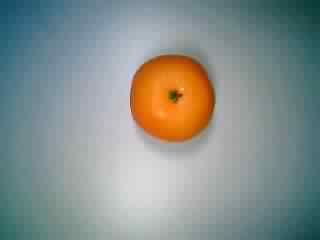orange: (122, 51, 217, 143)
